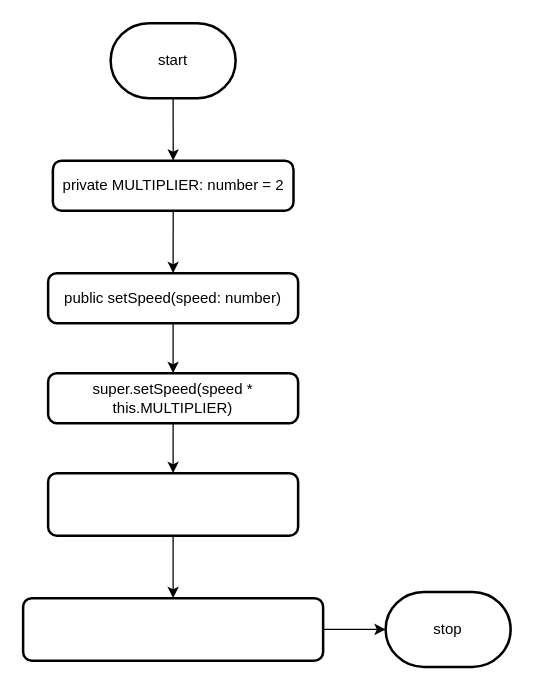
This 533x689 diagram has some shape labels left out. The box of each missing label's shape, as (x1, y1, x2, y2) in pixels:
public accelerate(): (46, 471, 299, 536)
super.setSpeed(super.getSpeed() * 2): (21, 596, 324, 661)
